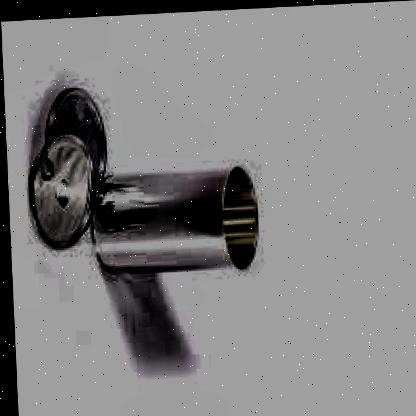Can: (83, 156, 263, 280), (16, 126, 100, 248), (34, 76, 112, 182)
